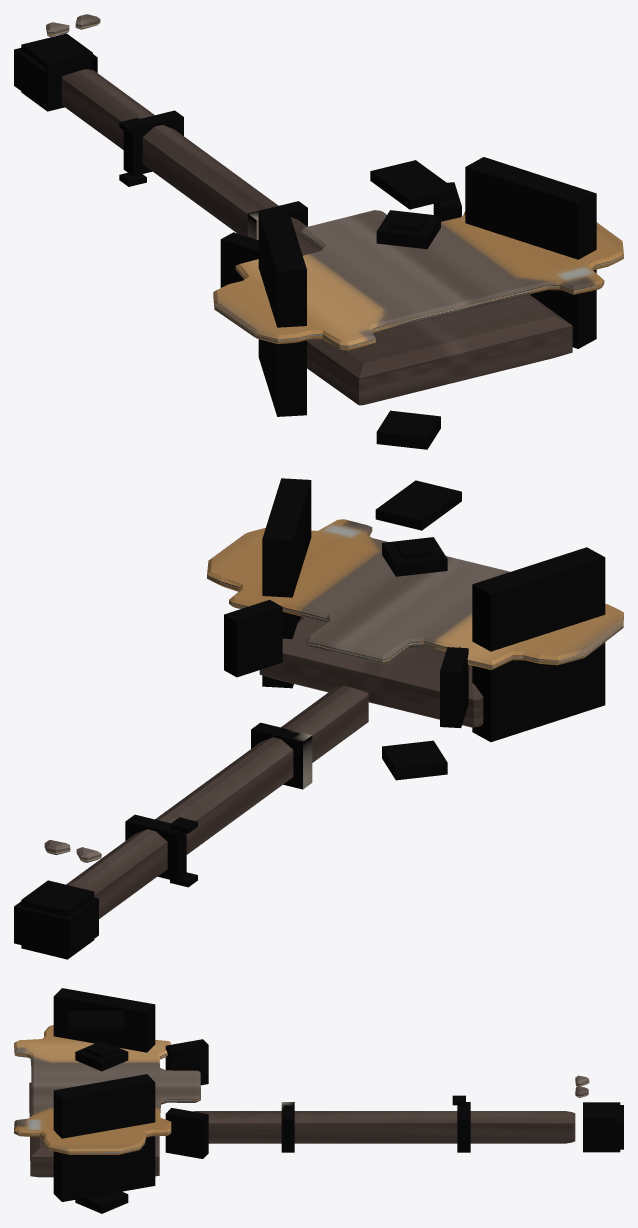
The model's file is earthshaker_hammer.obj.
3 renders of one model, top to bottom at view 1: azimuth 30°, elevation 25°; view 2: azimuth 150°, elevation 25°; view 3: azimuth 270°, elevation 25°, orthographic. The views are drawn at different scales.
Visible parts, largest first — view 1: earthshaker_hammer; view 2: earthshaker_hammer; view 3: earthshaker_hammer.
Part boxes in pixels (x1,y1,x2,y2): earthshaker_hammer: (14,14,623,449); earthshaker_hammer: (14,478,623,959); earthshaker_hammer: (14,988,623,1213).
Size of the model in its own units: 0.51 by 0.3445 by 1.02.
